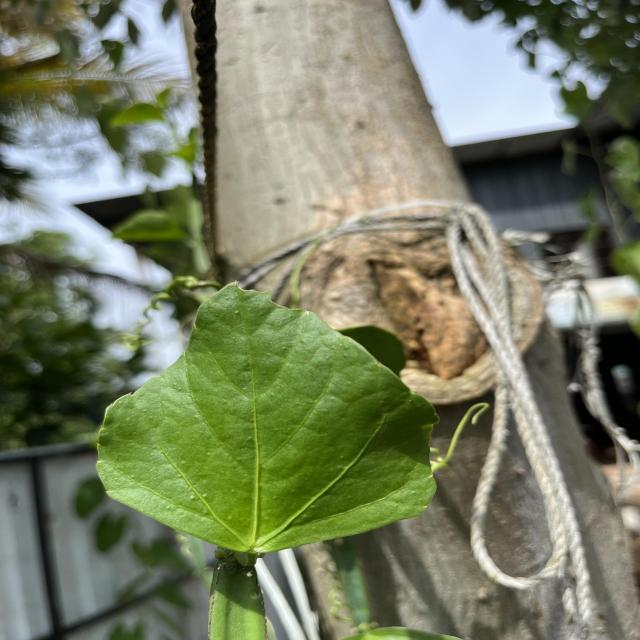Cissus quadrangularis: (90, 276, 444, 556)
